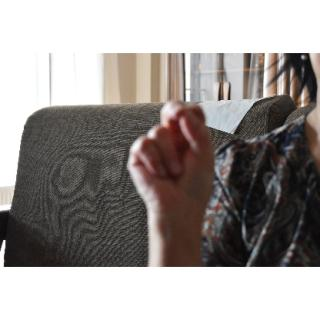QAAF: (129, 98, 222, 223)
